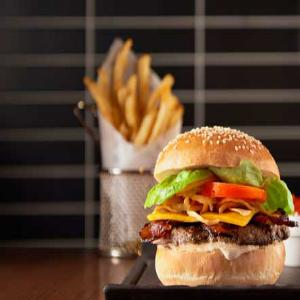cheeseburger: (152, 120, 293, 291)
